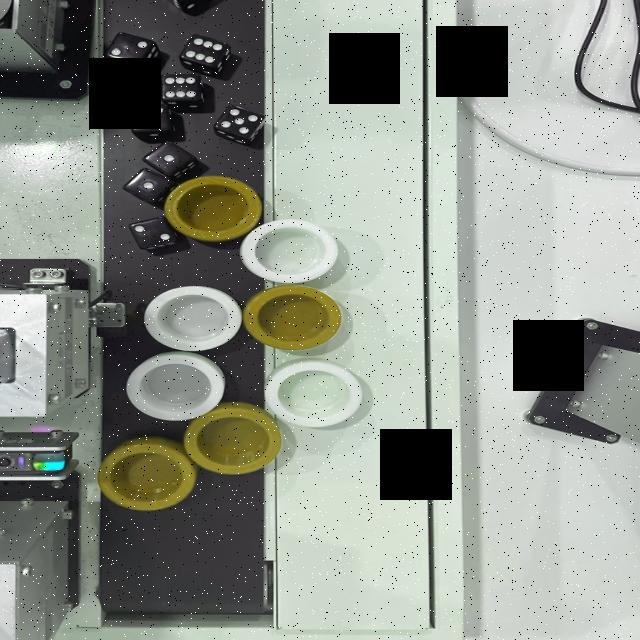DICE1: (125, 171, 167, 202), (153, 145, 190, 169)
DICE2: (132, 220, 174, 253), (108, 33, 154, 61)
DICE3: (132, 104, 174, 134)
DICE5: (214, 107, 268, 137)
DICE6: (177, 34, 229, 64), (162, 76, 200, 100)
RedChip: (184, 402, 284, 478), (162, 177, 262, 241), (94, 442, 190, 508), (243, 286, 340, 350)
WhiteChip: (237, 220, 341, 285), (262, 362, 359, 428), (124, 356, 222, 421), (145, 286, 239, 350)
